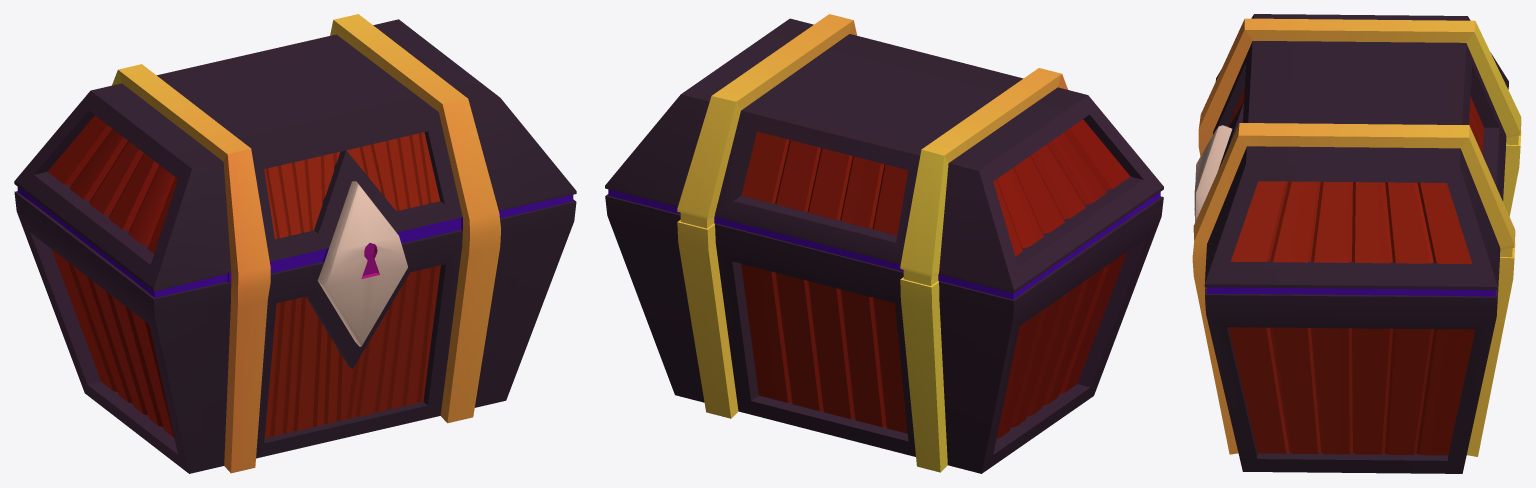
Rendered from Chest3.fbx.
The picture shows the model from 3 angles, left to right: view 1: azimuth 30°, elevation 25°; view 2: azimuth 150°, elevation 25°; view 3: azimuth 270°, elevation 25°; orthographic projection.
Visible parts, largest first — view 1: Purple chest.004; view 2: Purple chest.004; view 3: Purple chest.004.
Boxes of the visible parts, x1,y1,x2,y2 form: Purple chest.004: [14, 14, 576, 473]; Purple chest.004: [605, 14, 1163, 473]; Purple chest.004: [1192, 14, 1521, 473].
Bounding box in the file's own units: 149 × 106 × 99.39.
1 material, 1 textured.
